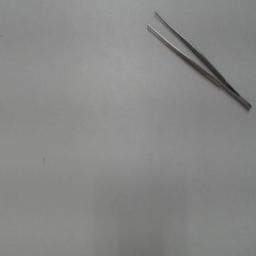Gillies Toothed Dissector: (145, 4, 253, 114)
